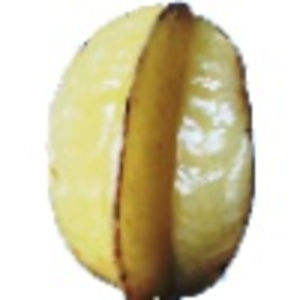carambola: (48, 1, 256, 300)
